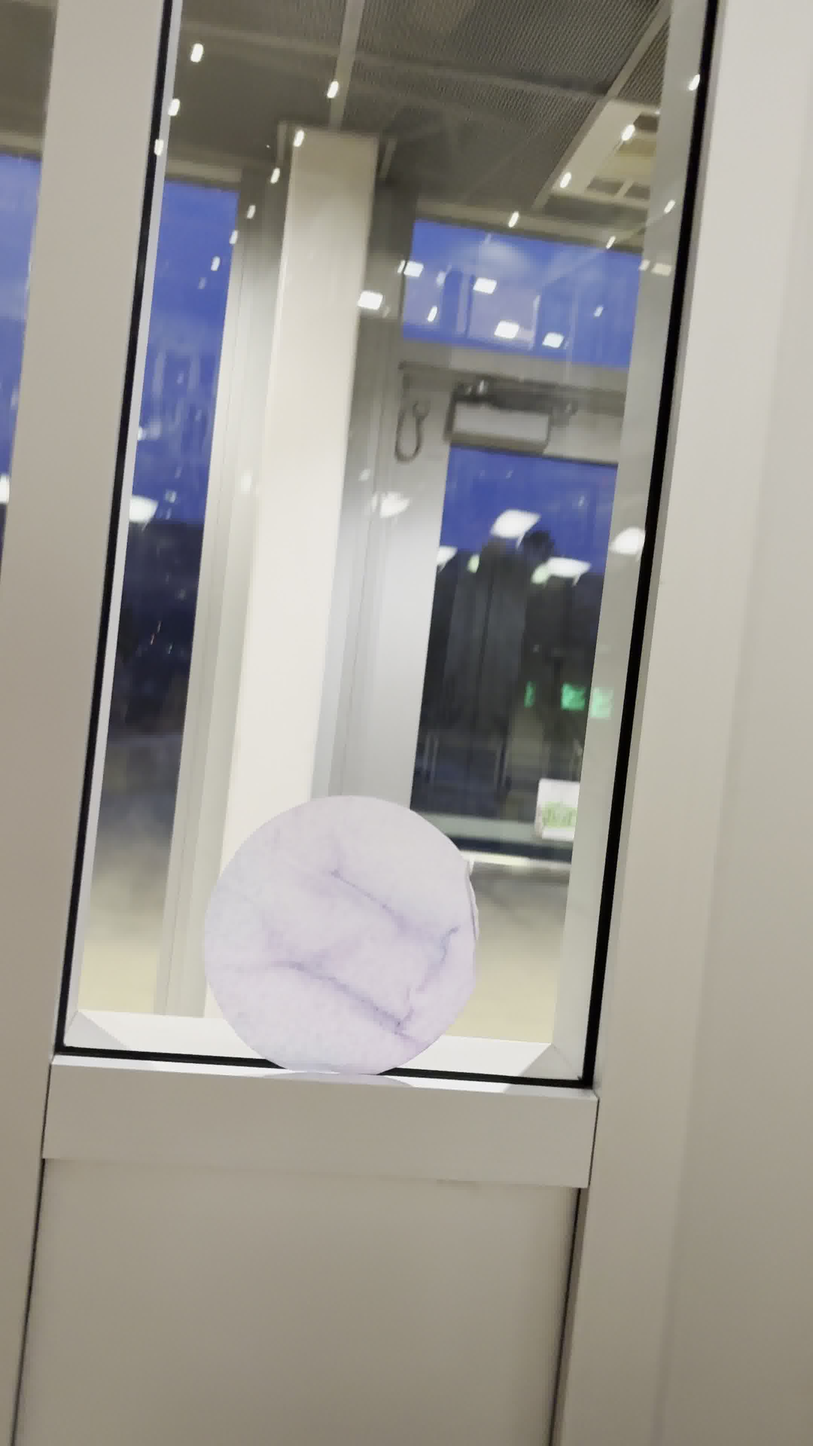Target: (196, 793, 484, 1077)
